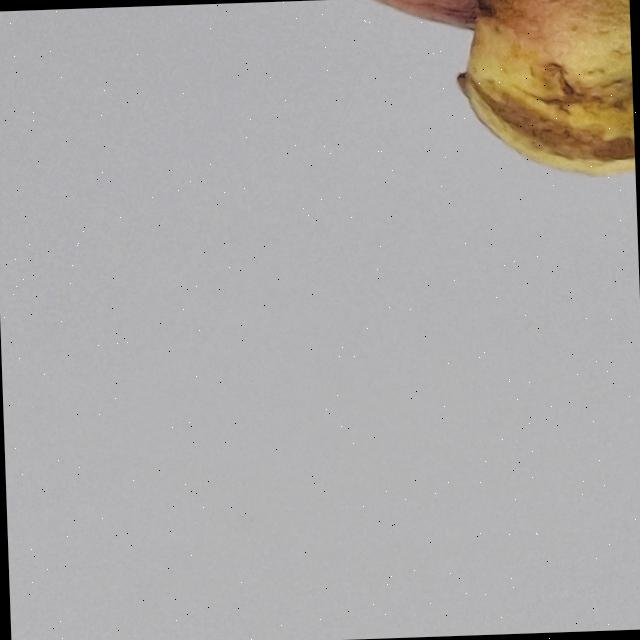mangosteen: (44, 0, 640, 399)
